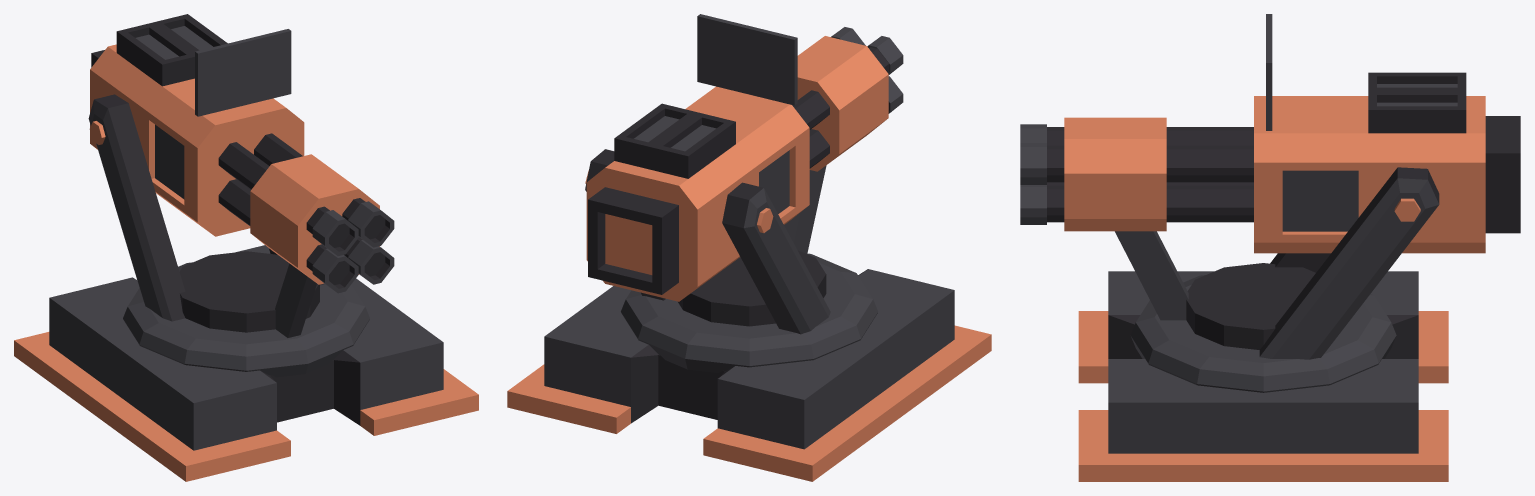
File: upg_rapid1.fbx
3 views of the same model, side by side, from view 1: azimuth 30°, elevation 25°; view 2: azimuth 150°, elevation 25°; view 3: azimuth 270°, elevation 25° (orthographic). The views are drawn at different scales.
Visible parts, largest first — view 1: Cylinder.004, Cube.008; view 2: Cylinder.004, Cube.008; view 3: Cylinder.004, Cube.008.
Part boxes in pixels (bbox=[...]): Cylinder.004: bbox=[88, 14, 394, 377]; Cube.008: bbox=[14, 245, 478, 481]; Cylinder.004: bbox=[585, 14, 903, 372]; Cube.008: bbox=[507, 269, 991, 481]; Cylinder.004: bbox=[1020, 14, 1520, 392]; Cube.008: bbox=[1078, 271, 1448, 481].
Bounding box in the file's own units: 179 × 198 × 246.
